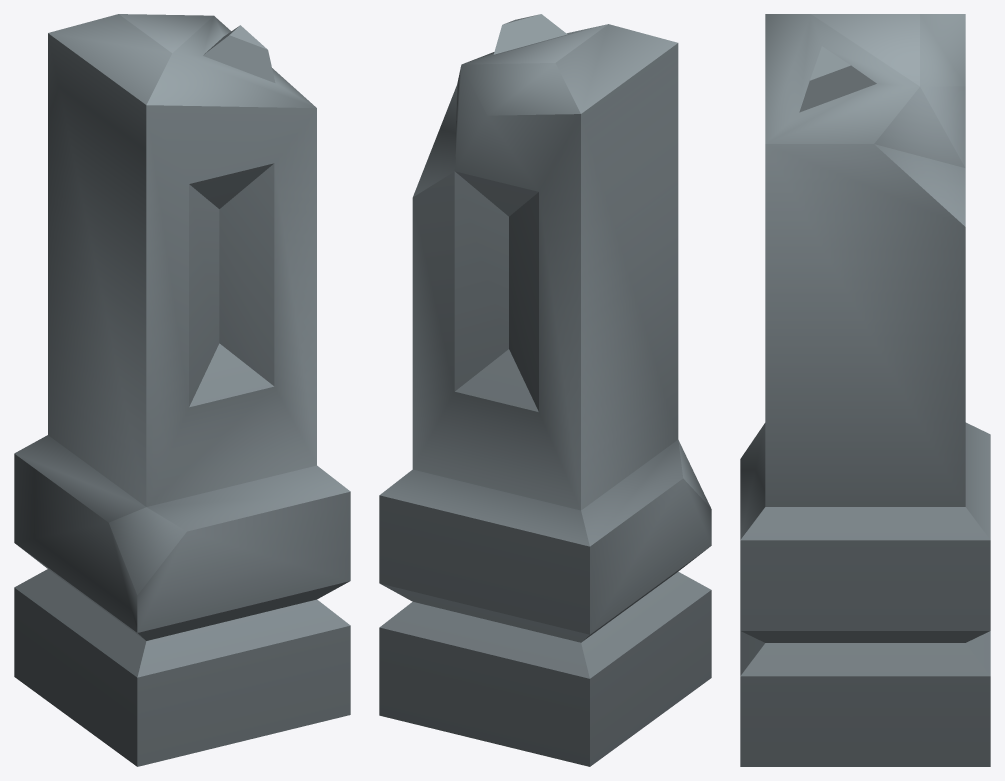
File: fence_pillar_broken.glb
The picture shows the model from 3 angles, left to right: view 1: azimuth 30°, elevation 25°; view 2: azimuth 150°, elevation 25°; view 3: azimuth 270°, elevation 25°; orthographic projection. The views are drawn at different scales.
Parts seen in each view (by area): view 1: fence_pillar_broken; view 2: fence_pillar_broken; view 3: fence_pillar_broken.
Part boxes in pixels (left/top/right/bottom): fence_pillar_broken: left=14, top=14, right=350, bottom=766; fence_pillar_broken: left=379, top=14, right=711, bottom=766; fence_pillar_broken: left=740, top=14, right=990, bottom=766.
Bounding box in the file's own units: 0.5 × 1.5 × 0.5.
1 material, 1 textured.
